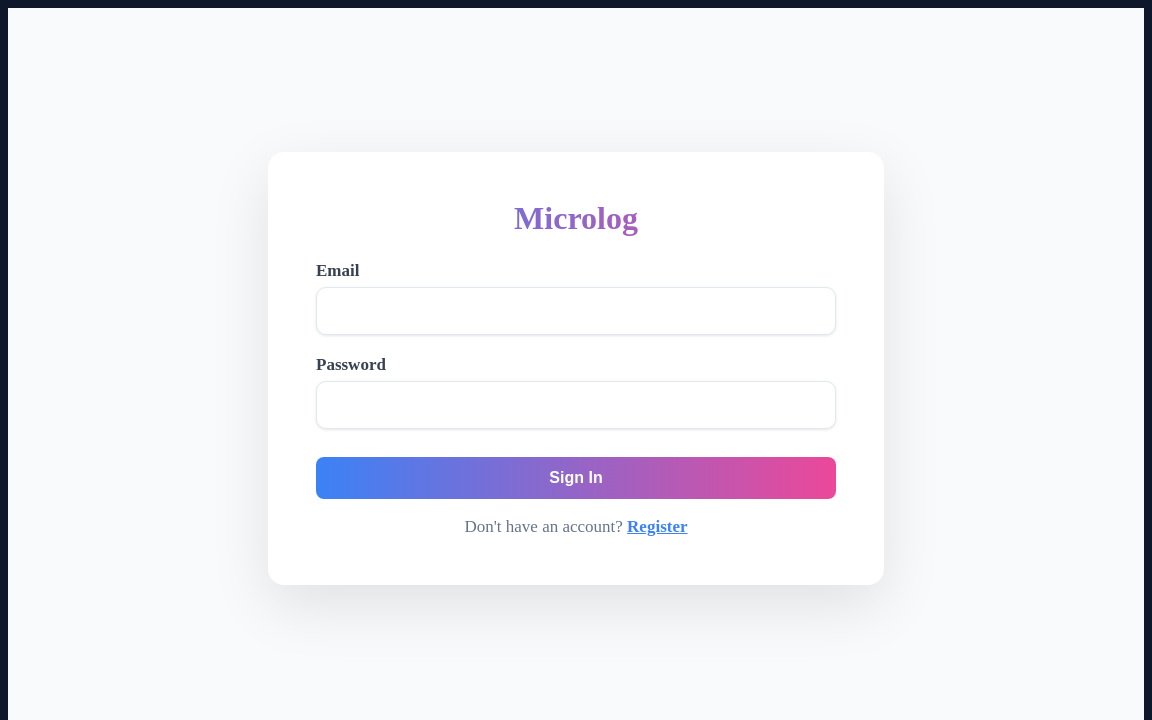
Test case: LoginForm › shows error message when signIn returns an error
Type "a@a.com" into the field labelled "Email" at (576, 310), box [316,286,836,334]
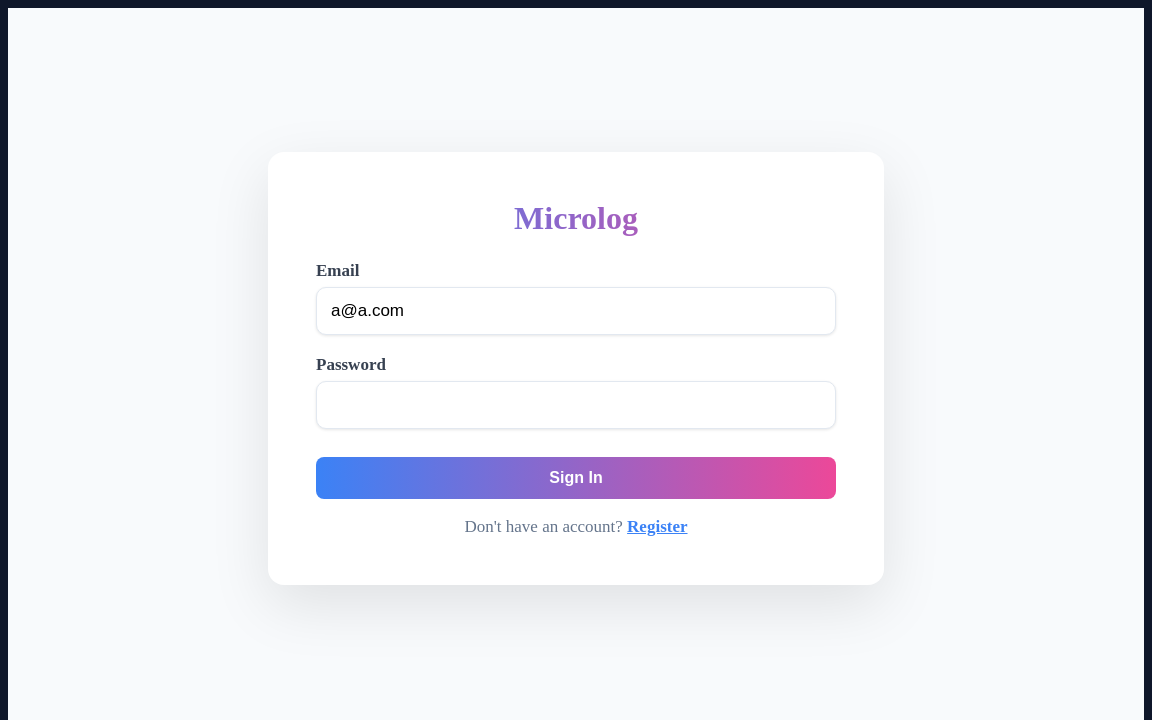
Type "badpass" into the password field labelled "Password" at (576, 404), box [316,380,836,428]
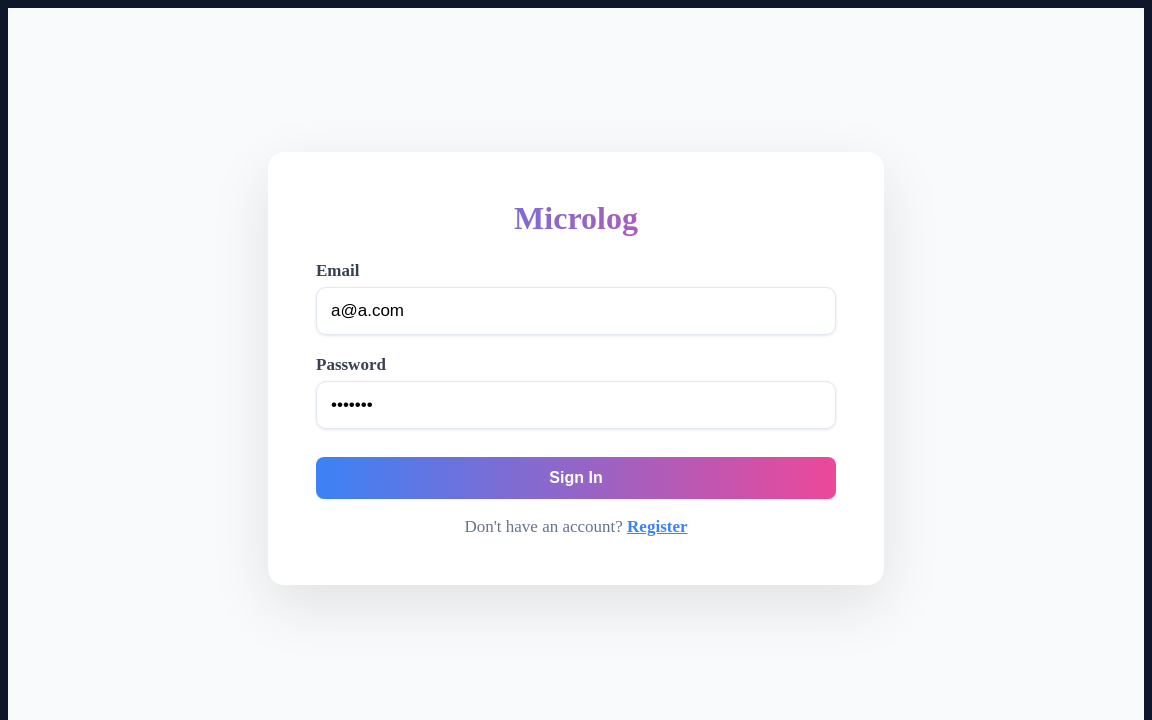
Click the button "Sign In" at (576, 478), box [316,456,836,498]
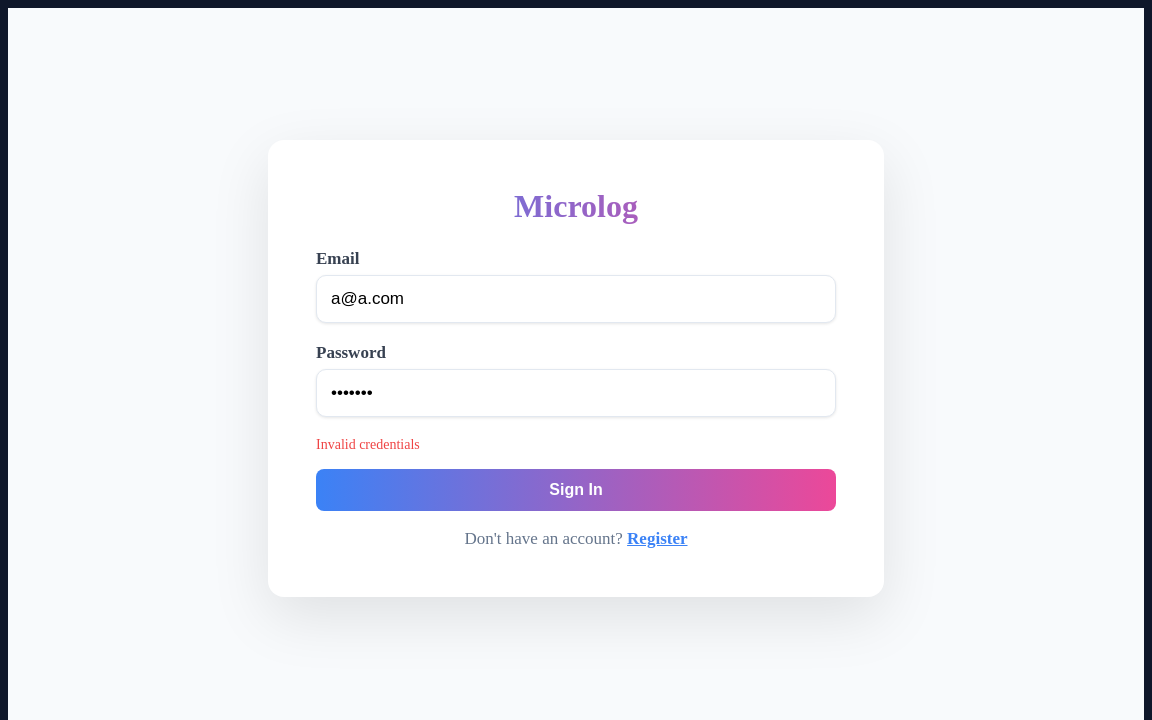
Expected: the text "Invalid credentials" is shown, [316,436,420,452]
